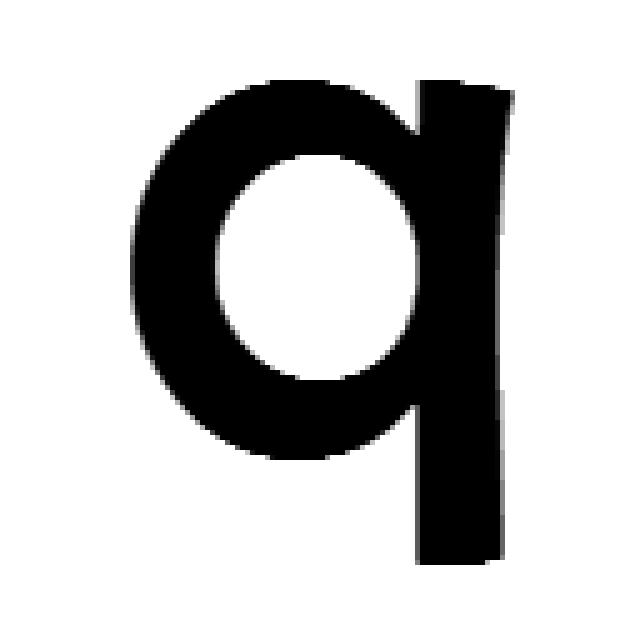Q: (120, 70, 520, 565)
